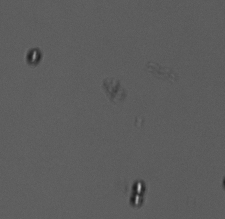Living Cell: (25, 47, 44, 69), (128, 192, 146, 208), (132, 179, 146, 194)
